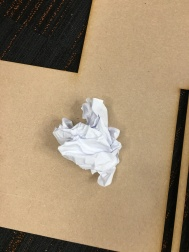paper_white: (52, 84, 126, 196)
